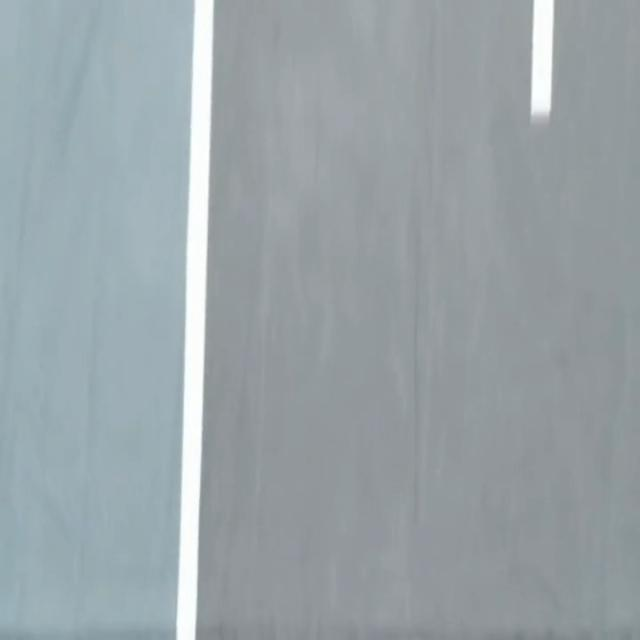center: (530, 0, 554, 123)
left: (177, 0, 213, 639)
